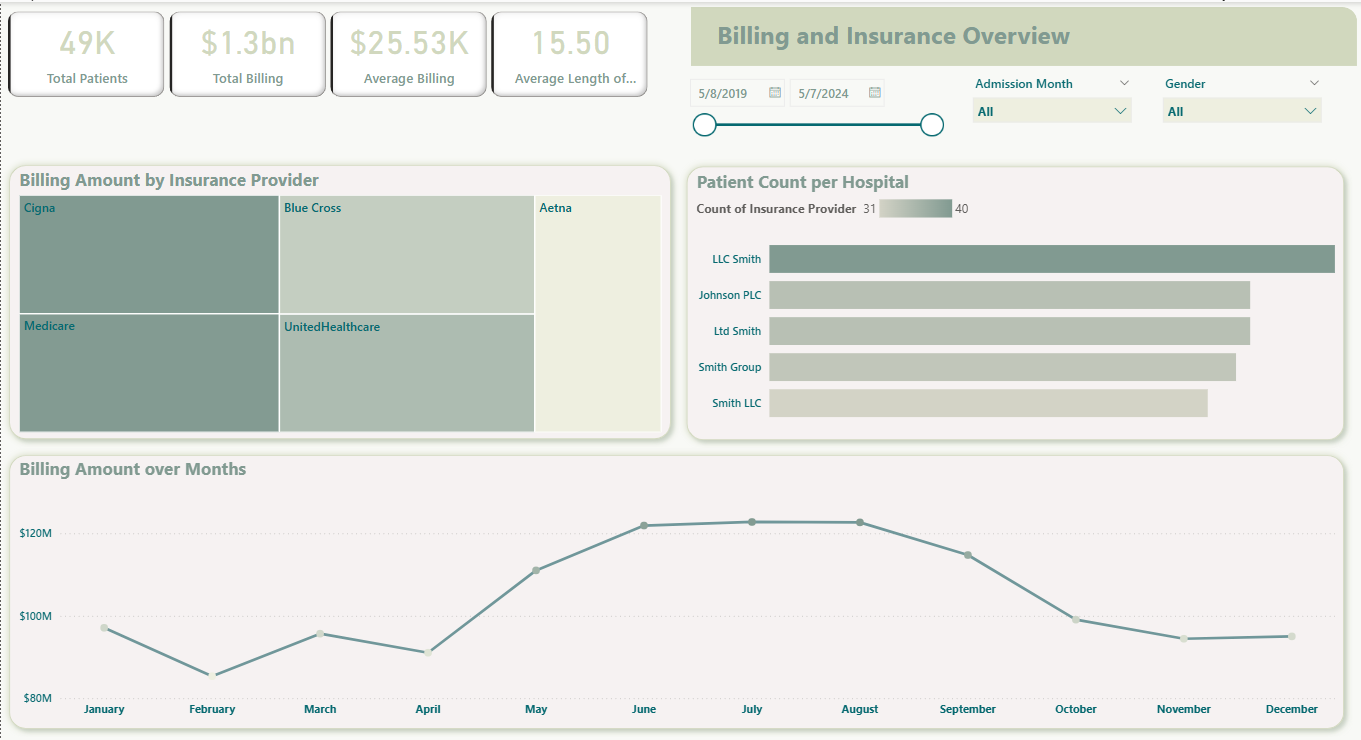

The dashboard page shown, as its layout file describes it:
{"tool":"powerbi","page":{"name":"Billing and Insurance Overview","canvas":[1500,820],"ordinal":2},"visuals":[{"type":"cardVisual","fields":{"Data":["healthcare_dataset.Total Patients","healthcare_dataset.Total Billing","healthcare_dataset.Average Billing","healthcare_dataset.Average Lngth of Stay"]},"box":[2.7,5.5,713.1,104.4],"z":0},{"type":"shape","box":[758.8,5.9,732.4,65],"z":1000},{"type":"textbox","box":[758.4,12.4,445.2,50.8],"z":2000},{"type":"shape","box":[0,170.7,745.3,319.2],"z":3000},{"type":"slicer","fields":{"Values":["healthcare_dataset.Date of Admission"]},"box":[744.7,74.2,299.5,79.7],"z":4000},{"type":"slicer","fields":{"Values":["healthcare_dataset.Admission Month"]},"box":[1058,75.6,195.1,79.7],"z":5000},{"type":"slicer","fields":{"Values":["healthcare_dataset.Gender"]},"box":[1266.8,75.6,195.1,79.7],"z":6000},{"type":"shape","box":[744.7,171.8,740.6,318.8],"z":7000},{"type":"shape","box":[0,489.1,1485.3,318.8],"z":8000},{"type":"treemap","title":"Billing Amount by Insurance Provider","fields":{"Values":["healthcare_dataset.Total Billing"],"Group":["healthcare_dataset.Insurance Provider"]},"box":[15.1,182.7,715.9,295.4],"z":9000},{"type":"lineChart","title":"Billing Amount over Months","fields":{"Y":["healthcare_dataset.Total Billing"],"Category":["healthcare_dataset.Date of Admission.Variation.Date Hierarchy.Month"]},"box":[15.1,500.1,1456.4,295.4],"z":10000},{"type":"clusteredBarChart","title":"Patient Count per Hospital","fields":{"Y":["healthcare_dataset.Total Patients"],"Category":["healthcare_dataset.Hospital"]},"box":[759.8,184.1,711.7,294],"z":11000}]}

Visuals, with their boxes in screenshot pixels (x1, y1, x2, y2), scaled from the page's 1500x820 canvas onto the 1361x740 screenshot:
cardVisual - healthcare_dataset.Total Patients x healthcare_dataset.Total Billing: 2:5:649:99
shape: 688:5:1353:64
textbox: 688:11:1092:57
shape: 0:154:676:442
slicer - healthcare_dataset.Date of Admission: 676:67:947:139
slicer - healthcare_dataset.Admission Month: 960:68:1137:140
slicer - healthcare_dataset.Gender: 1149:68:1326:140
shape: 676:155:1348:443
shape: 0:441:1348:729
"Billing Amount by Insurance Provider" treemap: 14:165:663:431
"Billing Amount over Months" lineChart: 14:451:1335:718
"Patient Count per Hospital" clusteredBarChart: 689:166:1335:431
